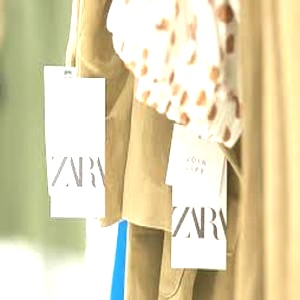zara: (127, 96, 300, 300), (81, 75, 129, 225)
